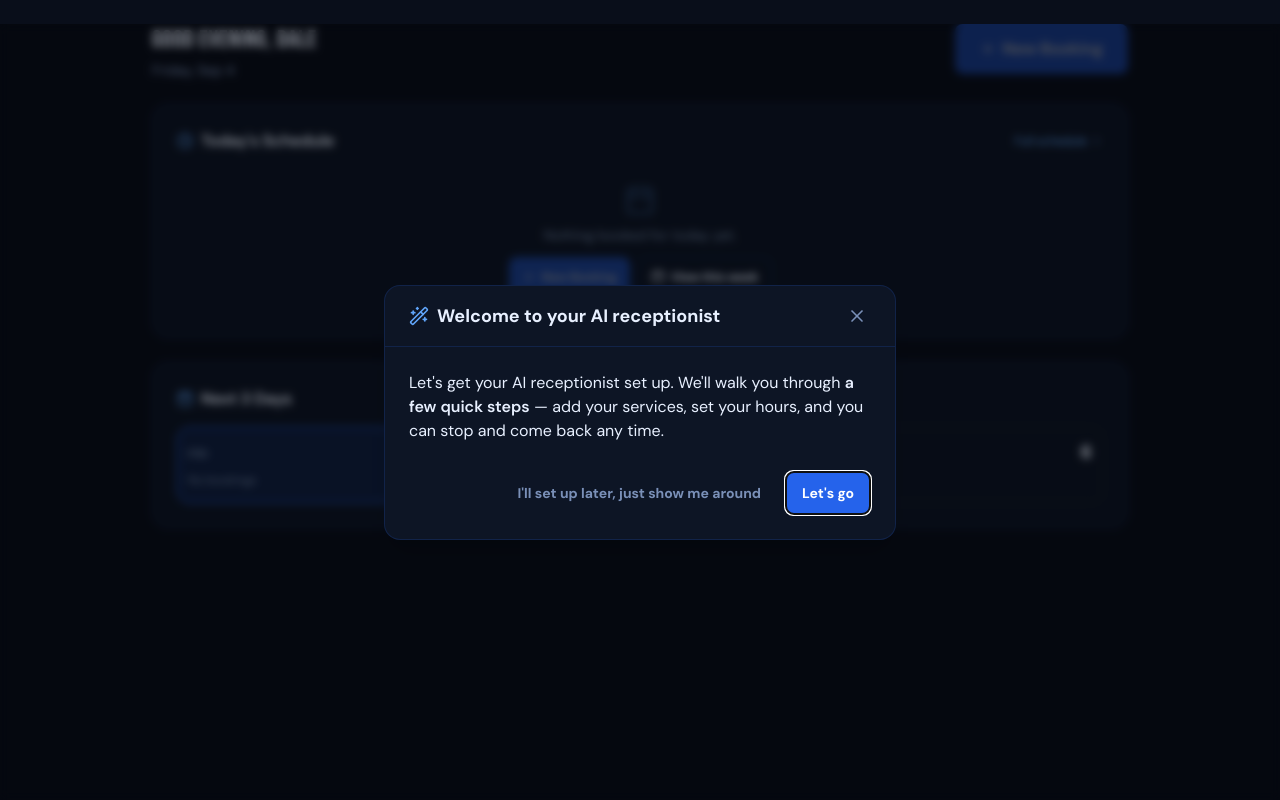
it: DashboardHome — wizard welcome → mode chooser staging (D1, 2026-05-17) › SAD: "I'll set up later" dismisses the entire flow — no mode chooser appears
Click the button "I'll set up later, just show me around": [639, 492] box [501,470,777,514]
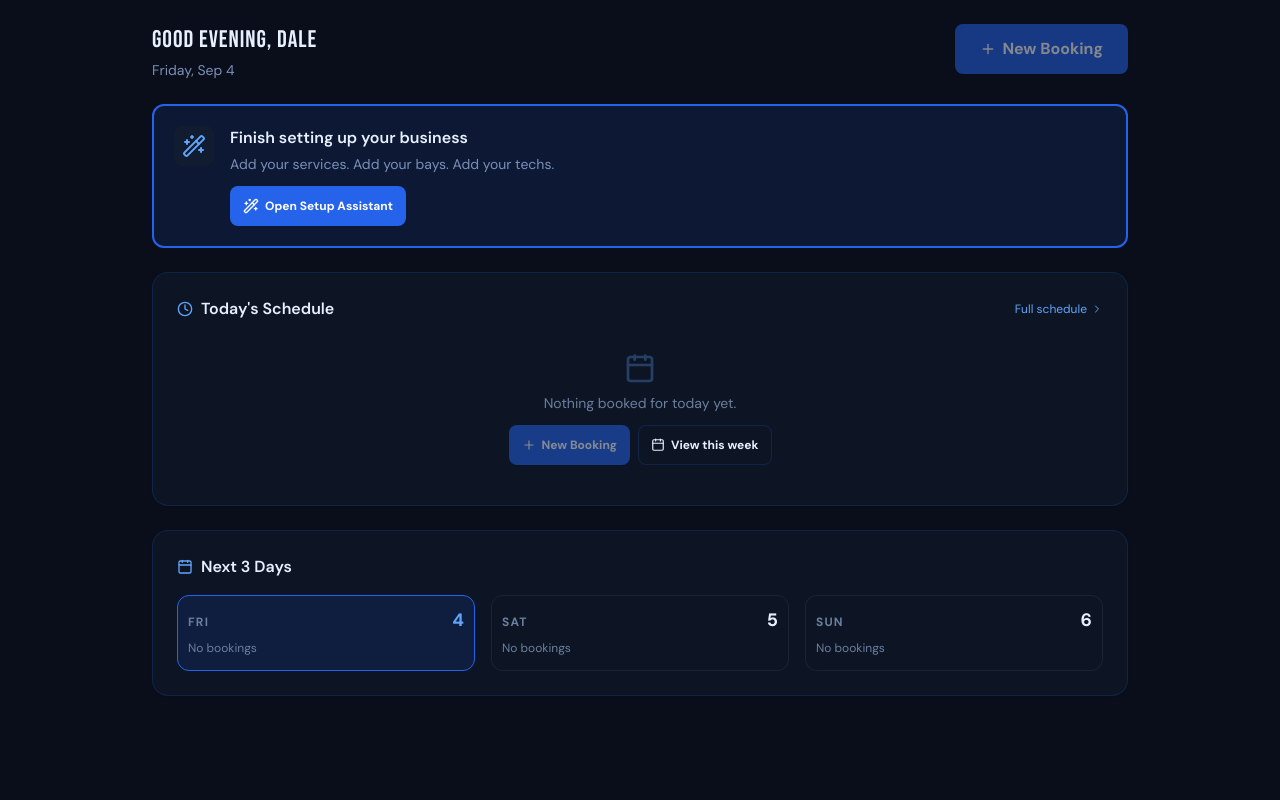
Expected: the heading "Welcome" is gone
Expected: the button "Open Setup Assistant" is shown, [230,186,406,226]
